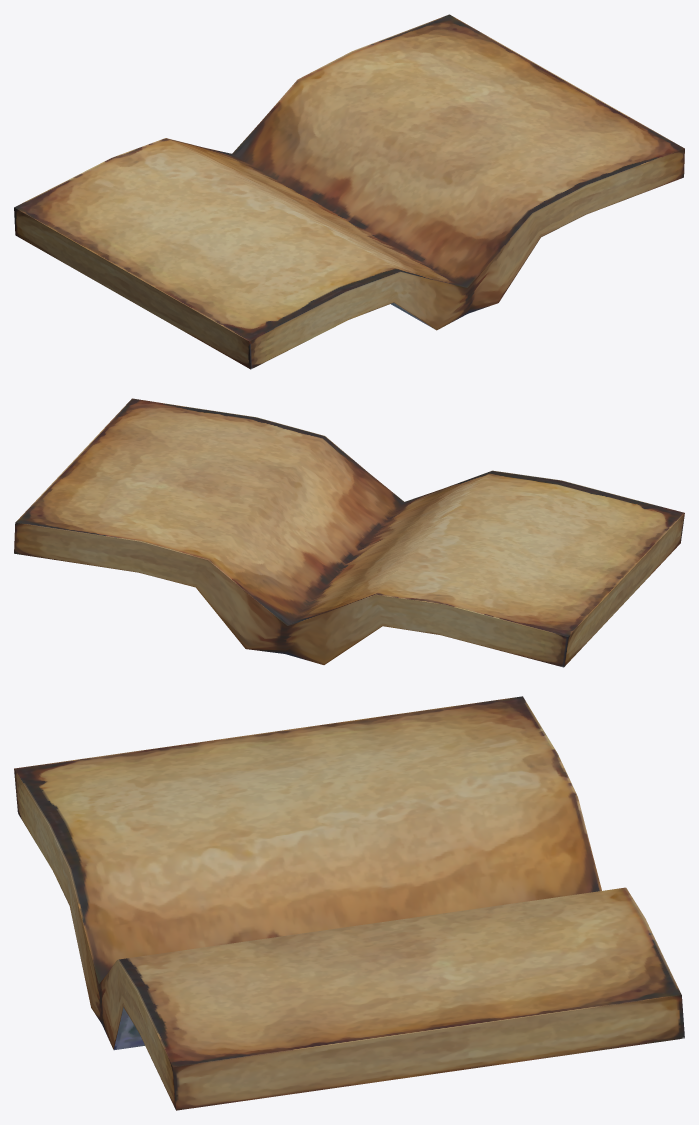
The model's file is BookAnimation_002.fbx.
3 renders of one model, top to bottom at view 1: azimuth 30°, elevation 25°; view 2: azimuth 150°, elevation 25°; view 3: azimuth 270°, elevation 25°, orthographic. The views are drawn at different scales.
Parts seen in each view (by area): view 1: pCube1; view 2: pCube1; view 3: pCube1.
Part boxes in pixels (x1,y1,x2,y2): pCube1: (14,14,684,369); pCube1: (14,398,684,667); pCube1: (14,696,684,1110).
Bounding box in the file's own units: 2.36 × 0.4684 × 1.72.
